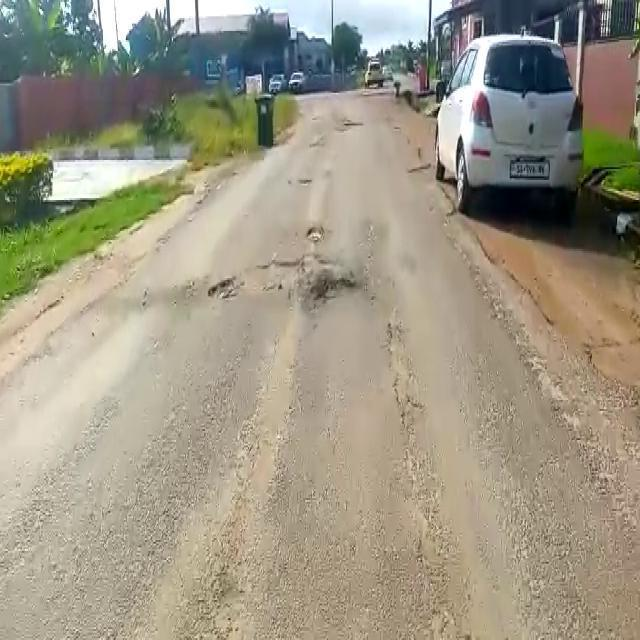pothole: (198, 257, 298, 301), (309, 269, 360, 305), (306, 223, 326, 245)
